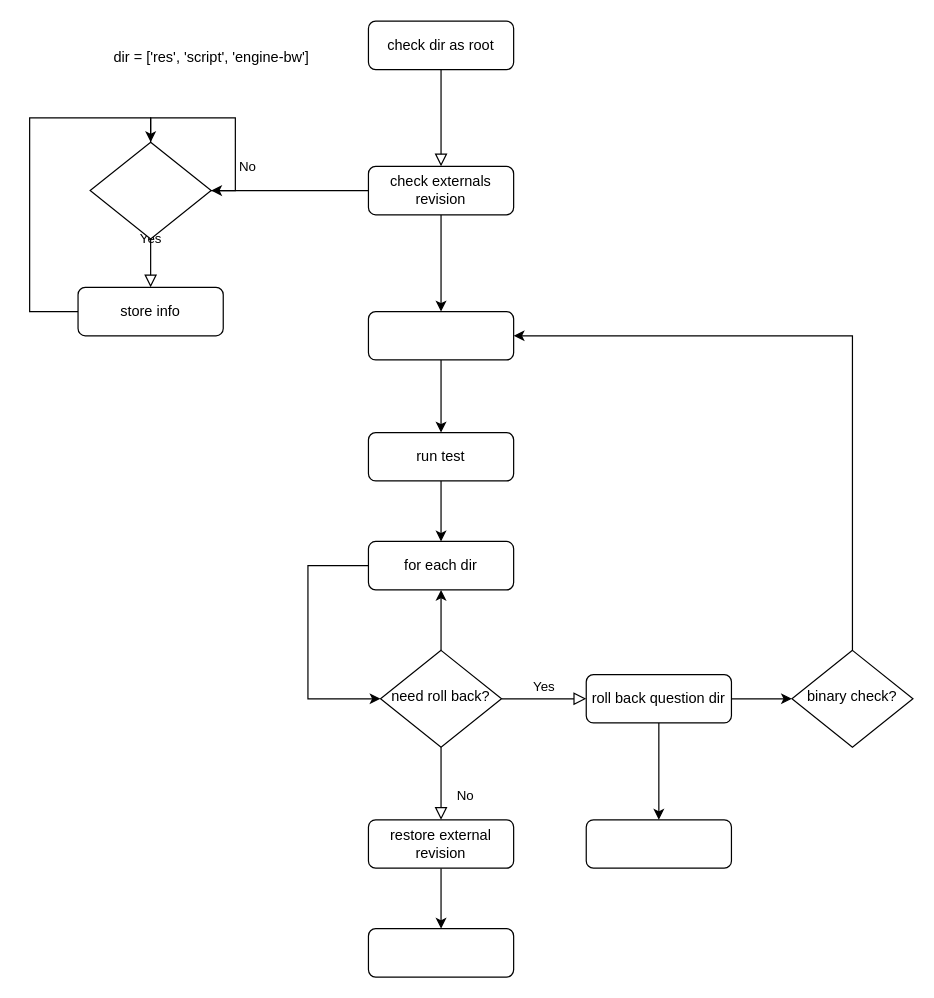
Image size: 934x998. Some labels were removed from this diagram. The box of each missing label's shape, as (x1, y1, x2, y2) in pixels:
exist dir?: (89, 141, 211, 239)
restore right revision: (585, 819, 731, 868)
update root / revert root: (367, 310, 514, 360)
use jenkins interface: (367, 927, 514, 977)
